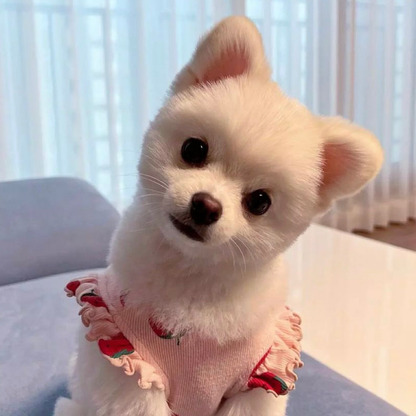Pomeranian: (80, 39, 391, 392)
